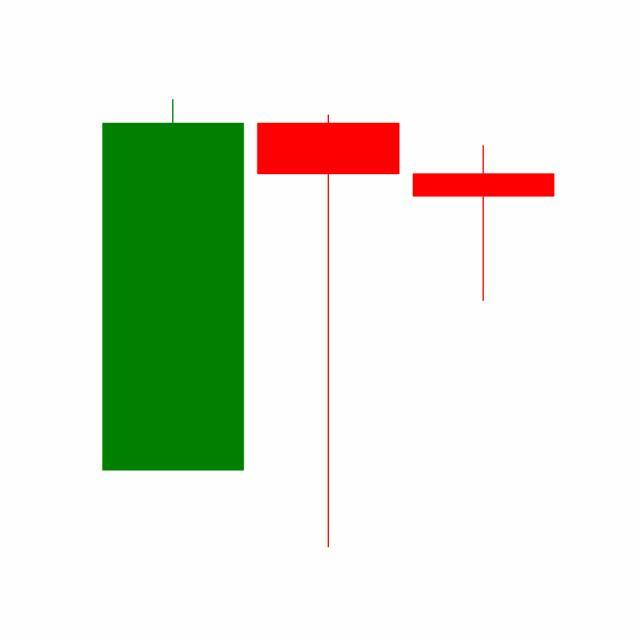Spinning Top: (406, 144, 562, 304)
